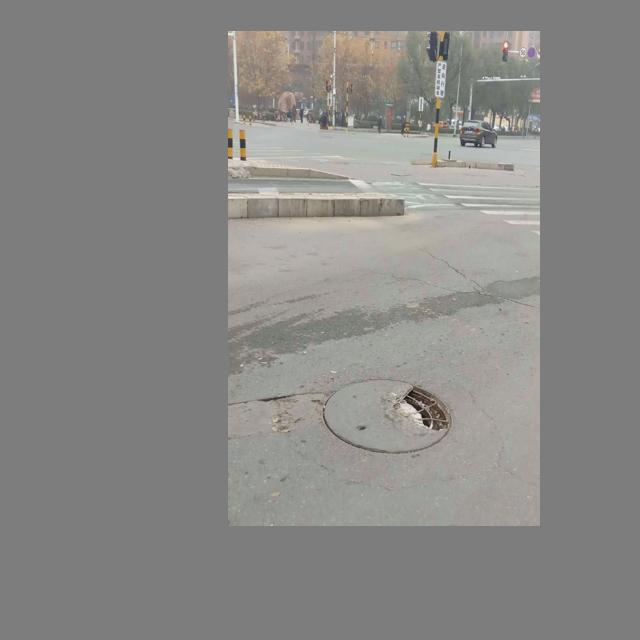broke: (323, 379, 452, 452)
